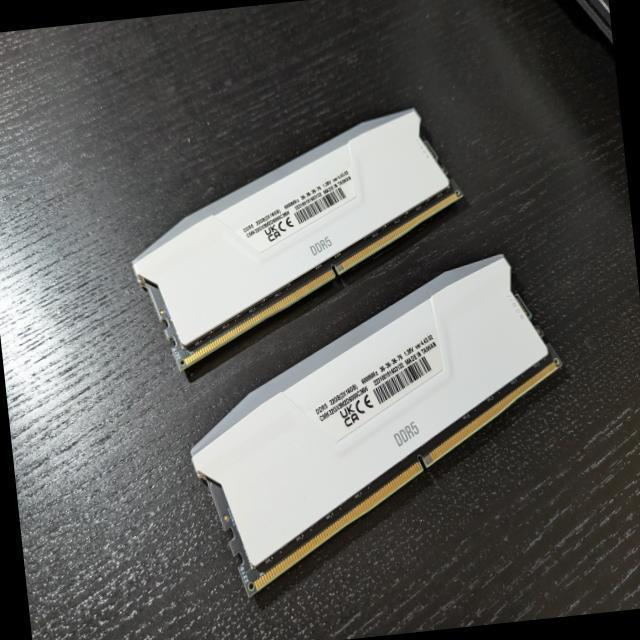RAM: (174, 245, 586, 602), (118, 98, 492, 374)
